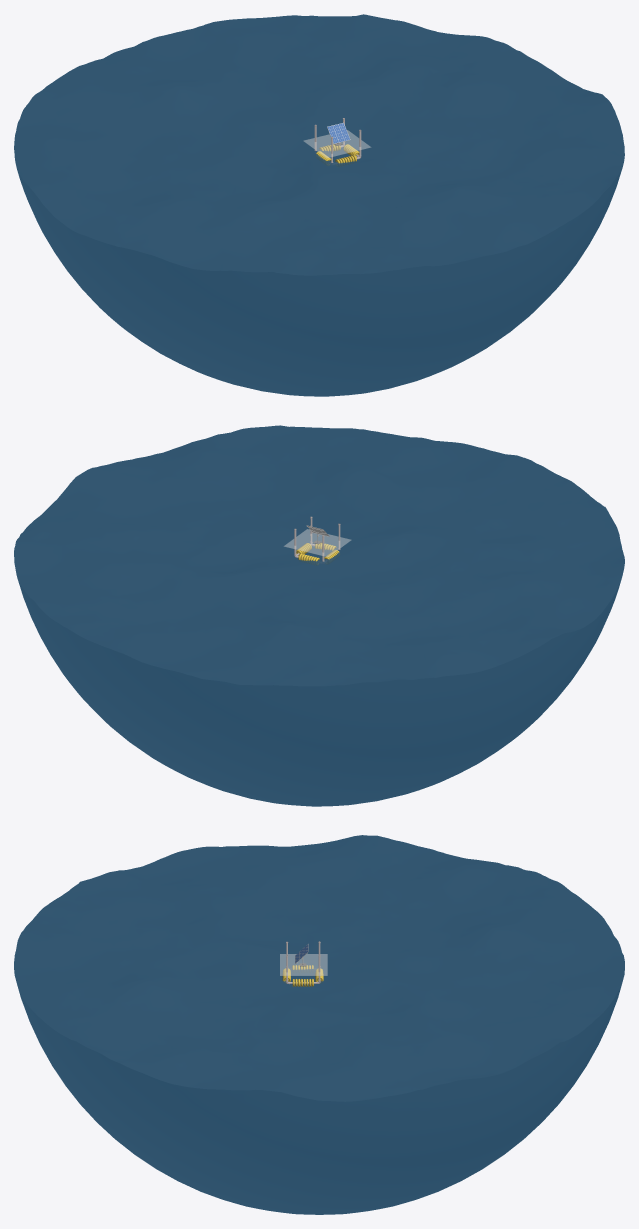
3 views of the same model, one above another, from view 1: azimuth 30°, elevation 25°; view 2: azimuth 150°, elevation 25°; view 3: azimuth 270°, elevation 25° (orthographic).
Visible parts, largest first — view 1: Ocean_2, plate; view 2: Ocean_2, plate; view 3: Ocean_2, plate.
Boxes of the visible parts, x1,y1,x2,y2 form: Ocean_2: (14, 14, 624, 396); plate: (303, 130, 371, 157); Ocean_2: (14, 425, 624, 806); plate: (284, 529, 351, 557); Ocean_2: (14, 835, 624, 1214); plate: (280, 954, 327, 975).
Bounding box in the file's own units: 22.3 × 9.84 × 22.37.
Materials: 6 (3 with a texture image).
